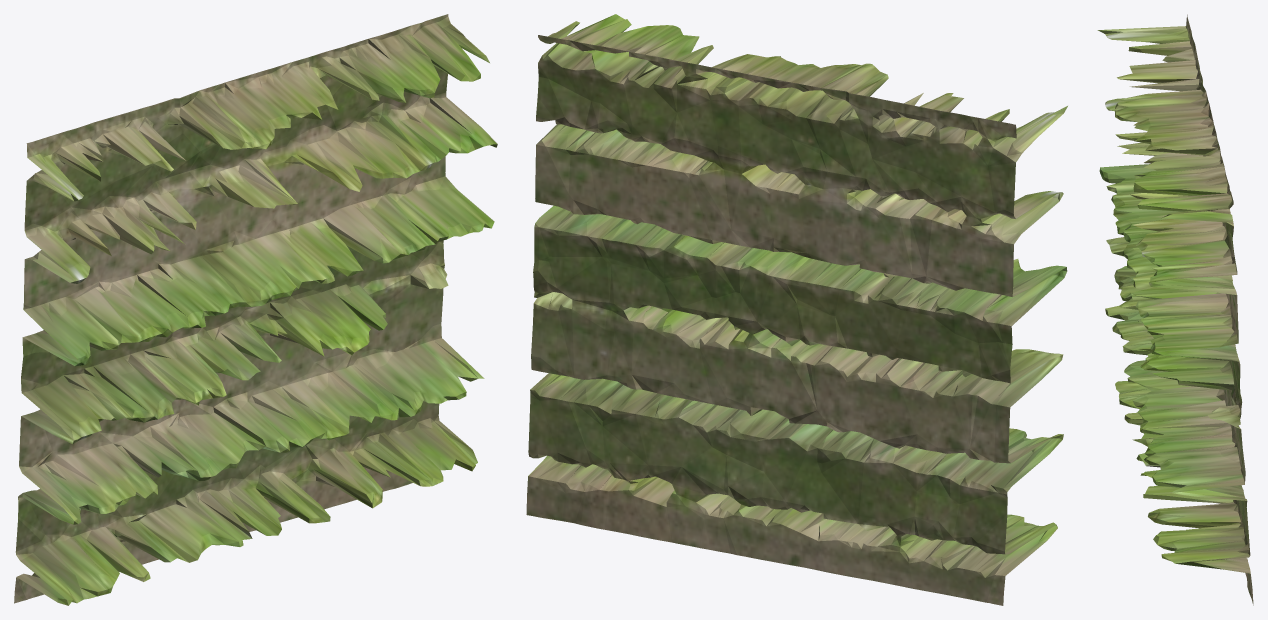
File: map_80_30.obj
3 renders of one model, left to right at view 1: azimuth 30°, elevation 25°; view 2: azimuth 150°, elevation 25°; view 3: azimuth 270°, elevation 25°, orthographic. The views are drawn at different scales.
Parts seen in each view (by area): view 1: grp1; view 2: grp1; view 3: grp1.
Part boxes in pixels (box(x1,y1,x2,y2)): grp1: box(14, 14, 497, 605); grp1: box(526, 14, 1067, 605); grp1: box(1097, 14, 1253, 605).
Size of the model in its own units: 10 by 10 by 3.5.
Materials: 1 (1 with a texture image).
